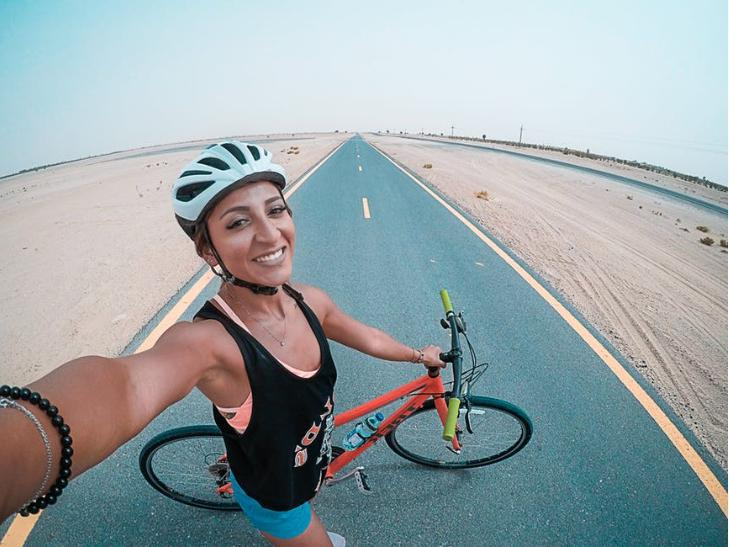face: (207, 179, 298, 285)
